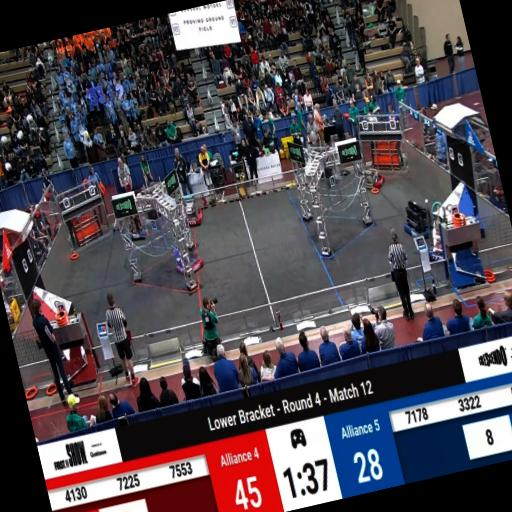robot: (398, 200, 435, 248), (170, 239, 204, 274), (357, 166, 389, 199), (180, 200, 204, 228)
